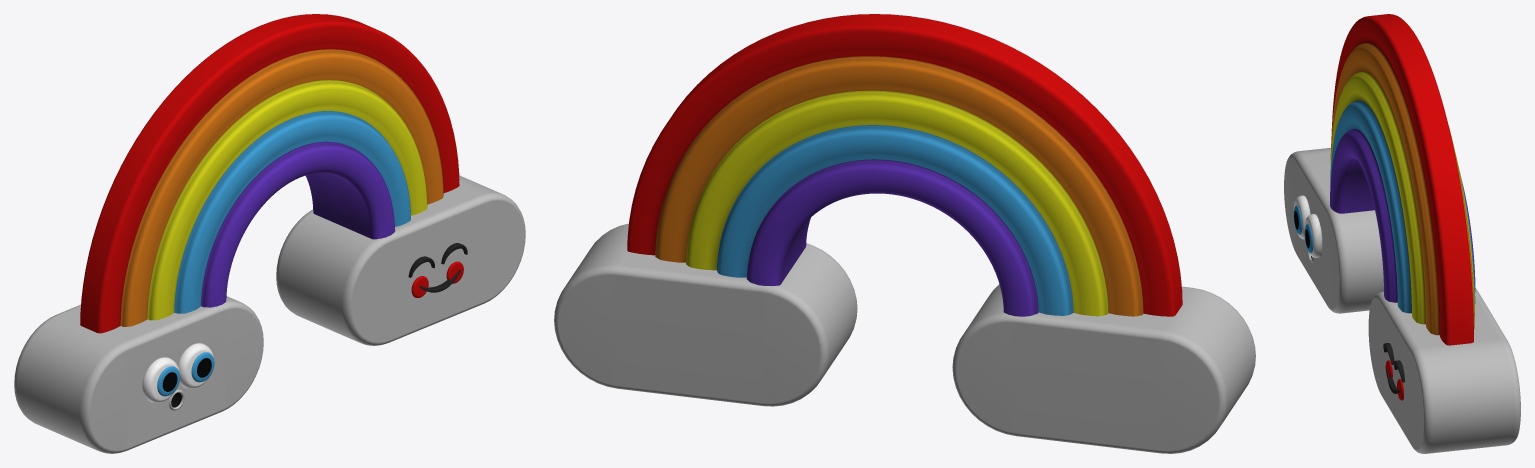
File: 3d_cartoon_rainbow_with_cloud.glb
The picture shows the model from 3 angles, left to right: view 1: azimuth 30°, elevation 25°; view 2: azimuth 150°, elevation 25°; view 3: azimuth 270°, elevation 25°; orthographic projection. The views are drawn at different scales.
Parts seen in each view (by area): view 1: node_id206_1; view 2: node_id206_1; view 3: node_id206_1.
Part boxes in pixels (x1,y1,x2,y2): node_id206_1: (14, 14, 525, 453); node_id206_1: (554, 14, 1255, 453); node_id206_1: (1284, 14, 1520, 453).
Bounding box in the file's own units: 0.5151 × 0.3052 × 0.2094.
Materials: 1 (1 with a texture image).
